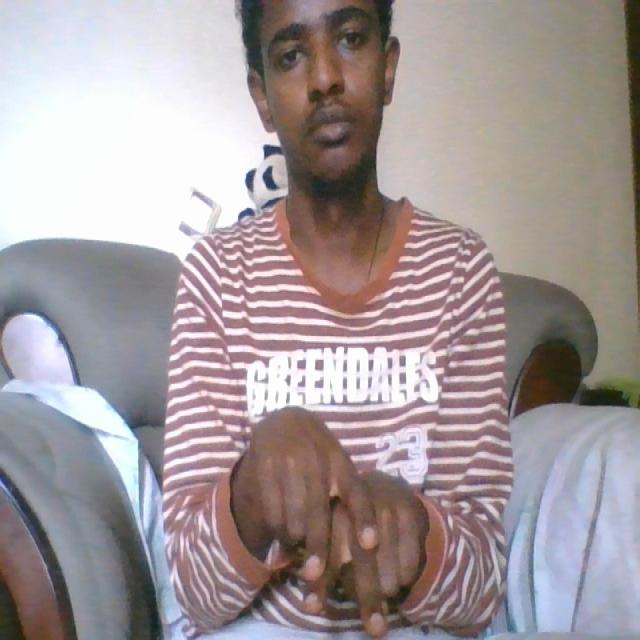babur: (241, 400, 433, 640)
